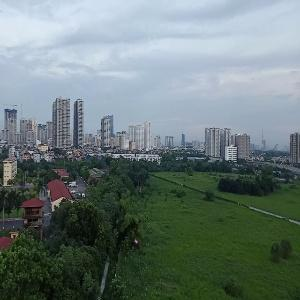drone: (126, 233, 155, 262)
